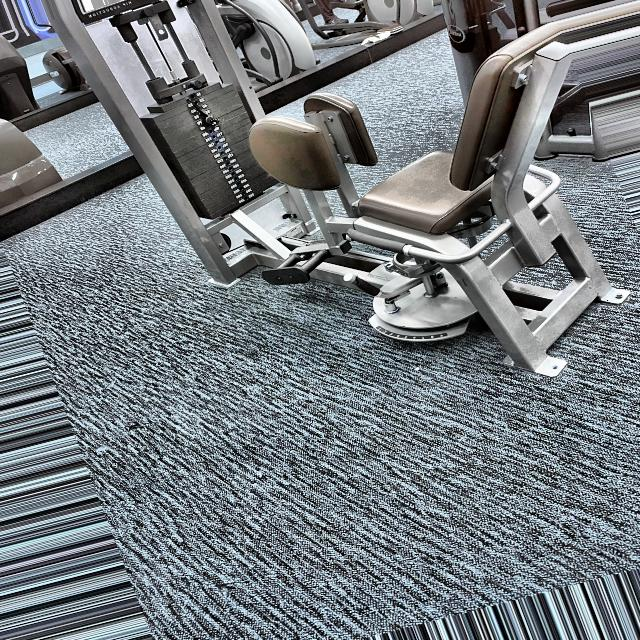hip_adduction_machine: (222, 32, 640, 384), (230, 75, 378, 316), (86, 0, 134, 18)
